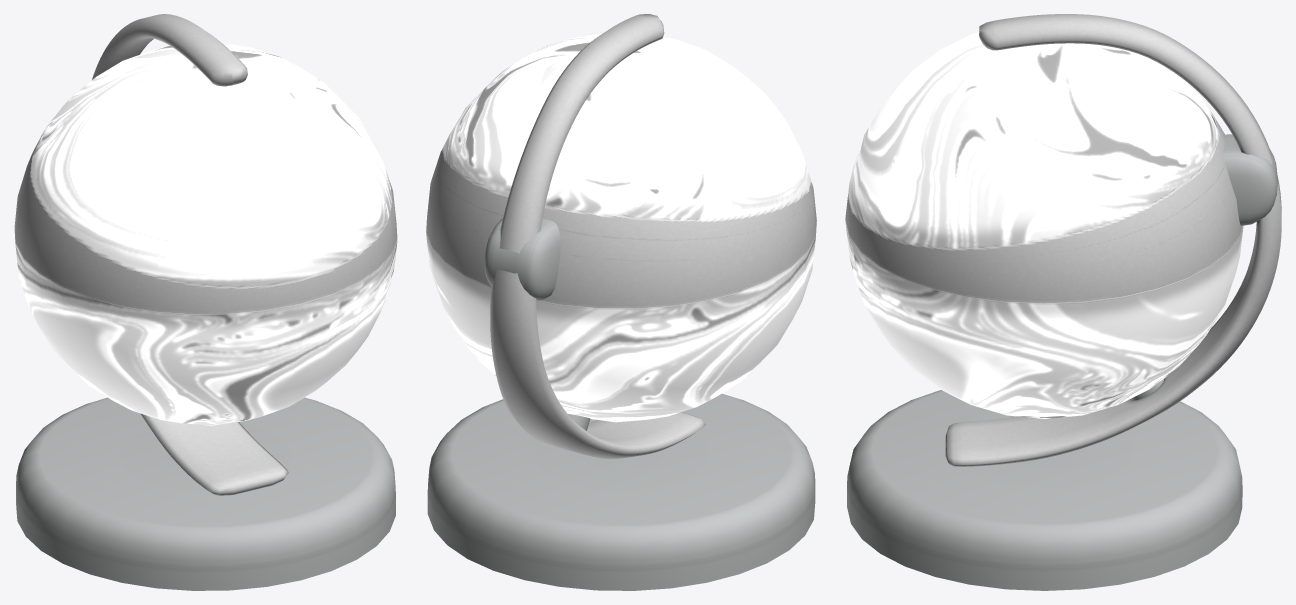
The model's file is LampTable03.FBX.
The picture shows the model from 3 angles, left to right: view 1: azimuth 30°, elevation 25°; view 2: azimuth 150°, elevation 25°; view 3: azimuth 270°, elevation 25°; orthographic projection. The views are drawn at different scales.
Visible parts, largest first — view 1: LampTable03; view 2: LampTable03; view 3: LampTable03.
Part boxes in pixels (x1,y1,x2,y2): LampTable03: (14,14,397,590); LampTable03: (426,14,816,590); LampTable03: (845,14,1281,590).
Size of what is drawn, in the model's own units: 0.3003 by 0.406 by 0.3285.
